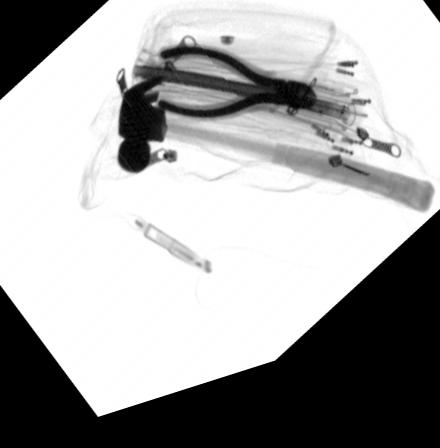Hammer: (116, 86, 436, 238)
Pliers: (154, 54, 316, 136)
